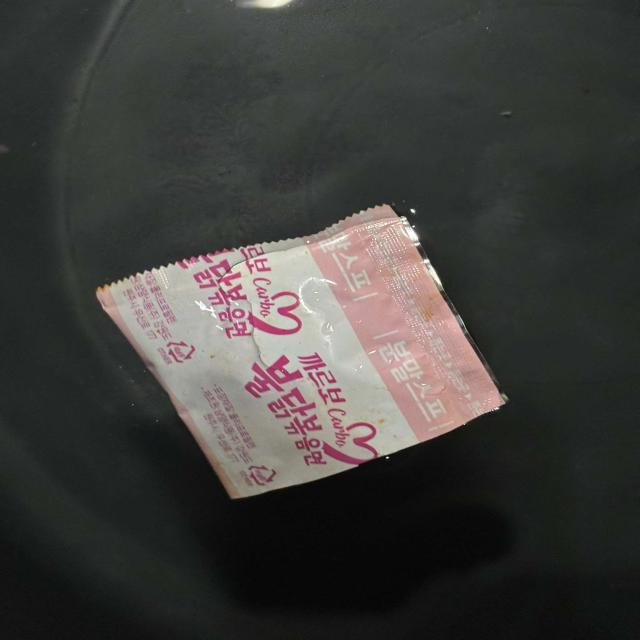Plastic Wrapper: (77, 188, 540, 516)
